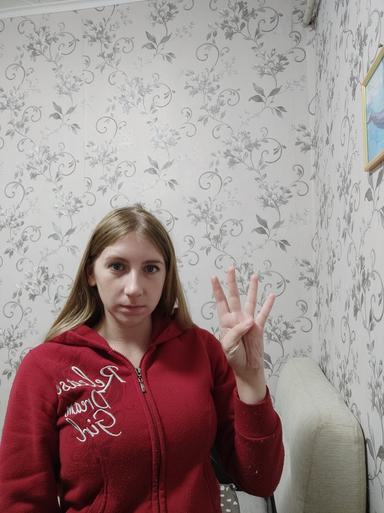four: (210, 266, 276, 374)
